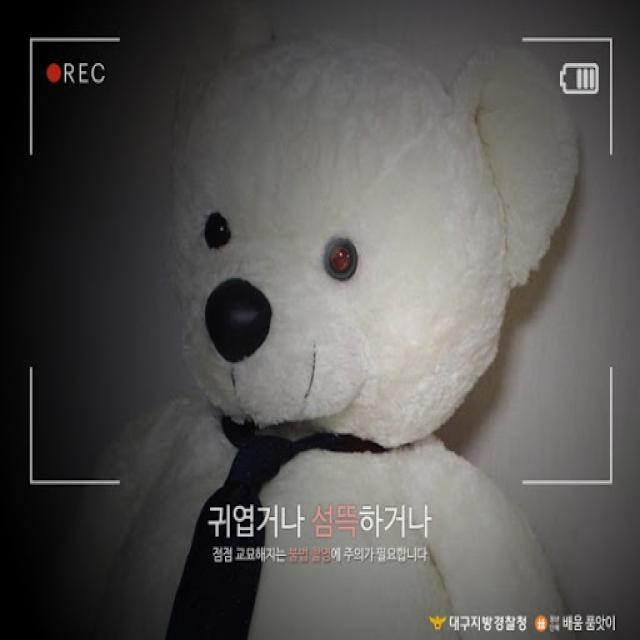hidden camera: (321, 234, 357, 280)
